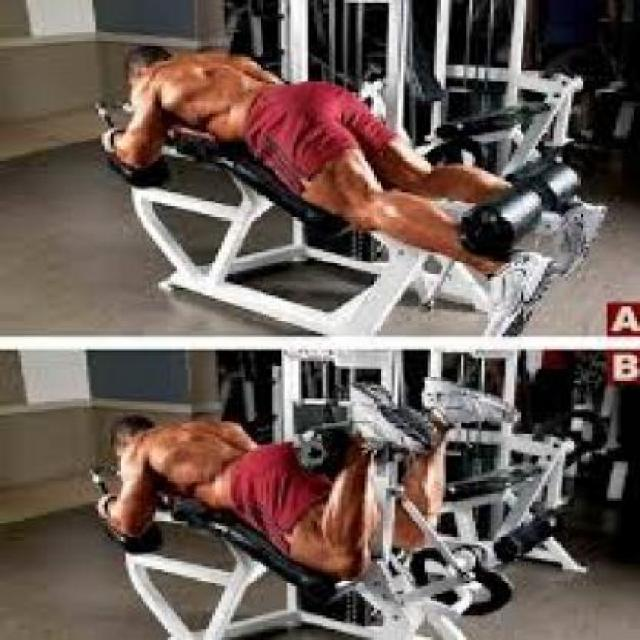reg curl machine: (94, 39, 600, 338), (83, 380, 585, 640)
